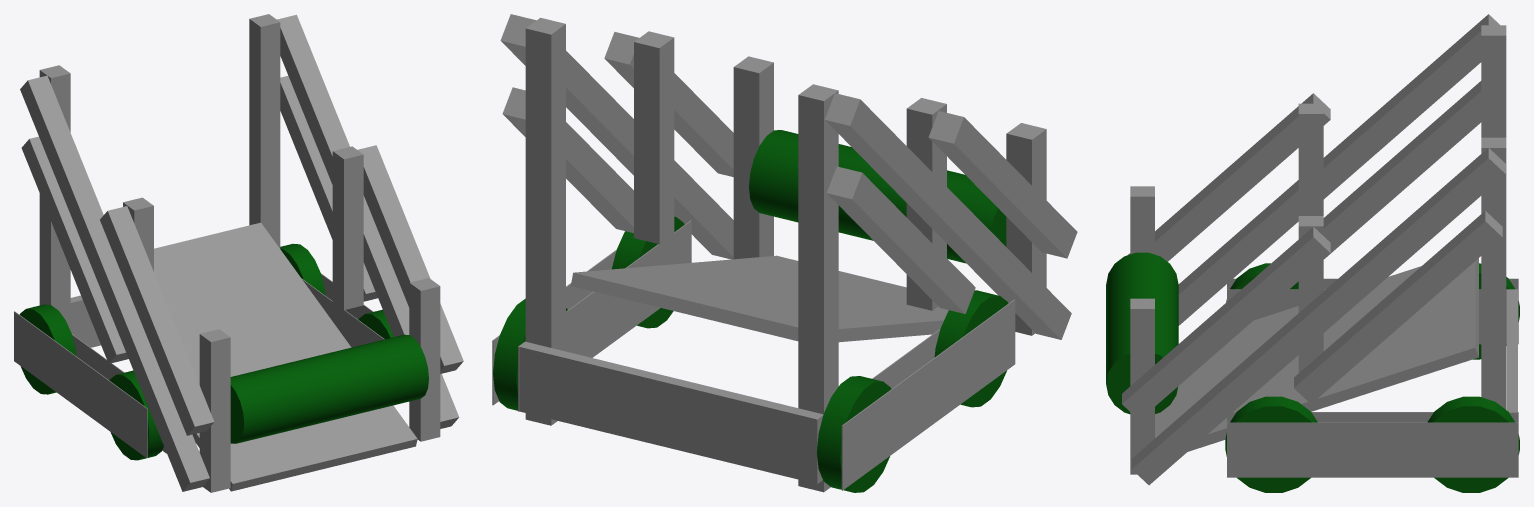
The model's file is rollerbot.FBX.
The picture shows the model from 3 angles, left to right: view 1: azimuth 30°, elevation 25°; view 2: azimuth 150°, elevation 25°; view 3: azimuth 270°, elevation 25°; orthographic projection. The views are drawn at different scales.
Parts seen in each view (by area): view 1: Box022, Cylinder005, Box015, Box014, Box019, Box006, Box004, Box018, Box020, Box016, Box023, Box024 (+10 smaller); view 2: Box002, Box022, Box006, Box015, Box007, Box004, Box020, Box014, Cylinder005, Box019, Box016, Box024 (+11 smaller); view 3: Box003, Box022, Box014, Box015, Box017, Box018, Cylinder005, Box016, Box019, Box006, Box007, Box021 (+9 smaller).
Part boxes in pixels (x1,y1,x2,y2): Box022: (154,222,417,491); Cylinder005: (230,334,428,443); Box015: (20,75,209,491); Box014: (277,14,459,428); Box019: (100,206,214,435); Box006: (249,14,280,248); Box004: (14,311,147,458); Box018: (357,145,463,373); Box020: (332,146,363,309); Box016: (21,136,128,363); Box023: (199,329,230,492); Box024: (409,278,440,441); Box002: (519,342,822,483); Box022: (571,255,948,342); Box006: (525,17,565,425); Box015: (825,93,1071,339); Box007: (798,84,838,492); Box004: (841,299,1015,490); Box020: (634,31,674,244); Box014: (500,14,733,259); Cylinder005: (749,130,1006,263); Box019: (928,111,1077,258); Box016: (827,166,975,313); Box024: (733,56,773,259); Box003: (1227,422,1518,477); Box022: (1155,258,1478,451); Box014: (1131,147,1505,485); Box015: (1178,14,1499,325); Box017: (1294,210,1502,403); Box018: (1122,227,1330,420); Cylinder005: (1106,252,1178,414); Box016: (1323,81,1481,258); Box019: (1128,93,1330,261); Box006: (1481,137,1506,409); Box007: (1481,25,1506,137); Box021: (1298,103,1323,215).
Bounding box in the file's own units: 0.3571 × 0.3869 × 0.4328.
